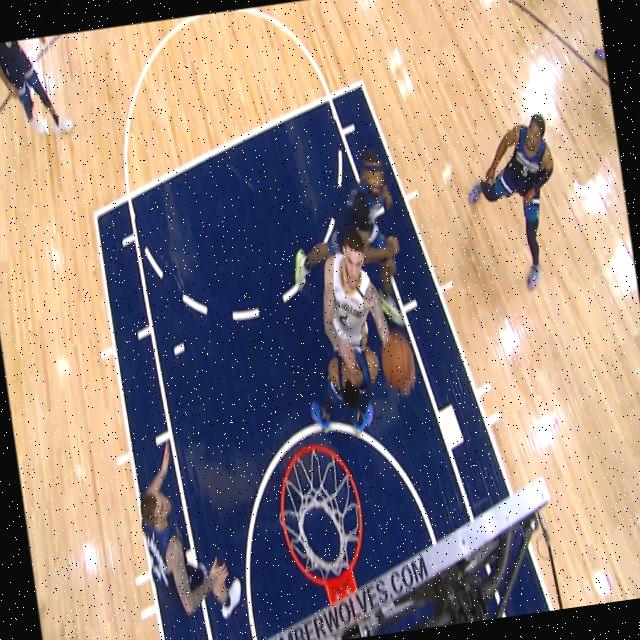Foul: (315, 286, 386, 444)
